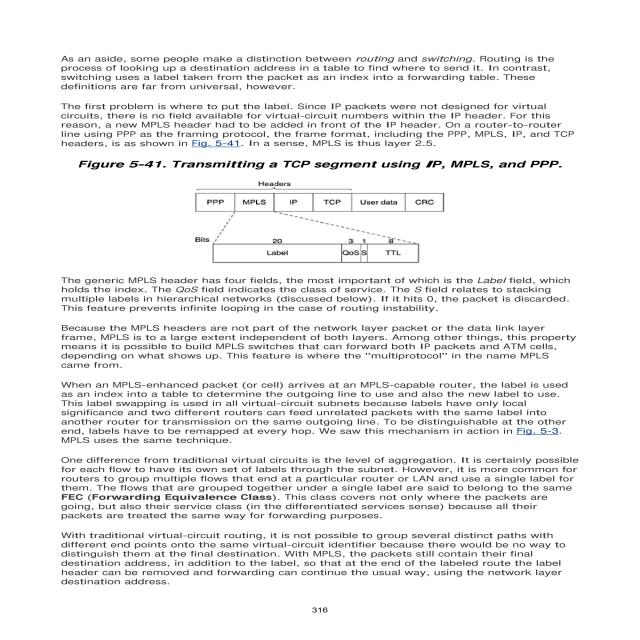diagram: (70, 146, 540, 278)
